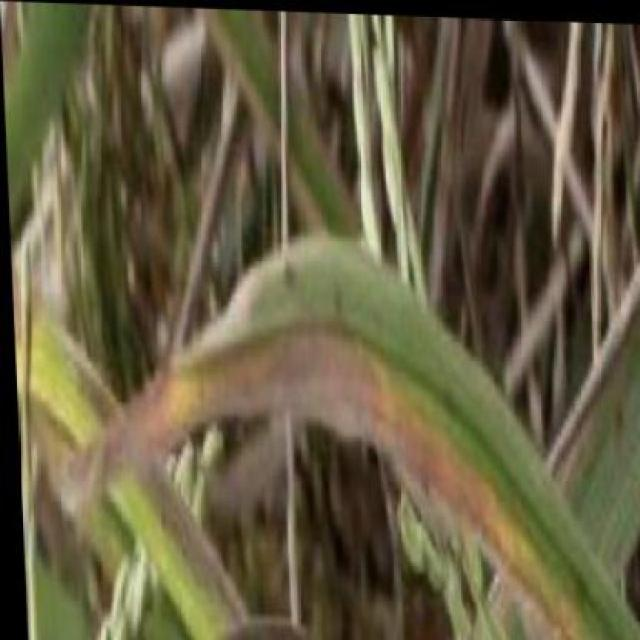Brown_Spot: (170, 239, 519, 463)
